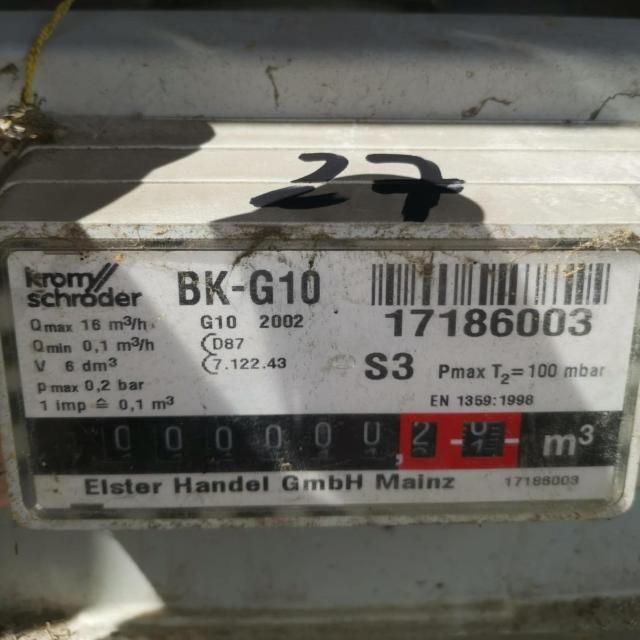gaz_meter: (6, 246, 636, 517)
indication: (78, 413, 520, 475)
